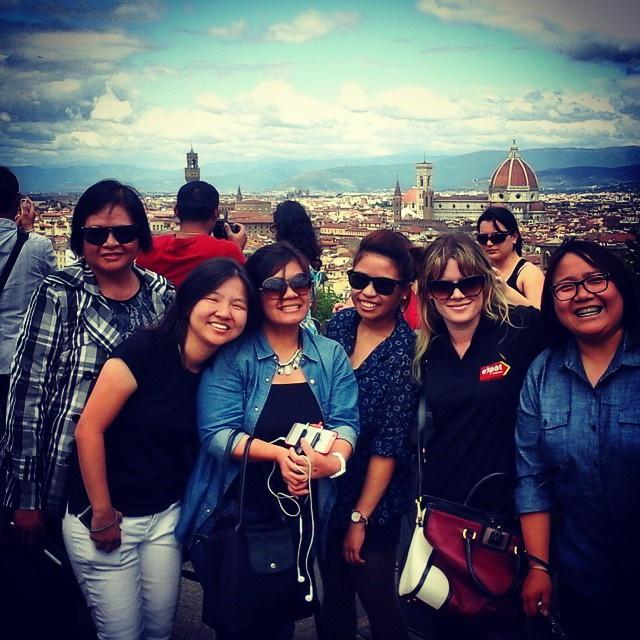body: (0, 170, 187, 639), (169, 234, 363, 639), (57, 252, 257, 638), (510, 237, 640, 640), (314, 226, 423, 640), (412, 228, 547, 516), (0, 161, 62, 437), (134, 178, 250, 288), (268, 198, 325, 337), (475, 204, 546, 312)
